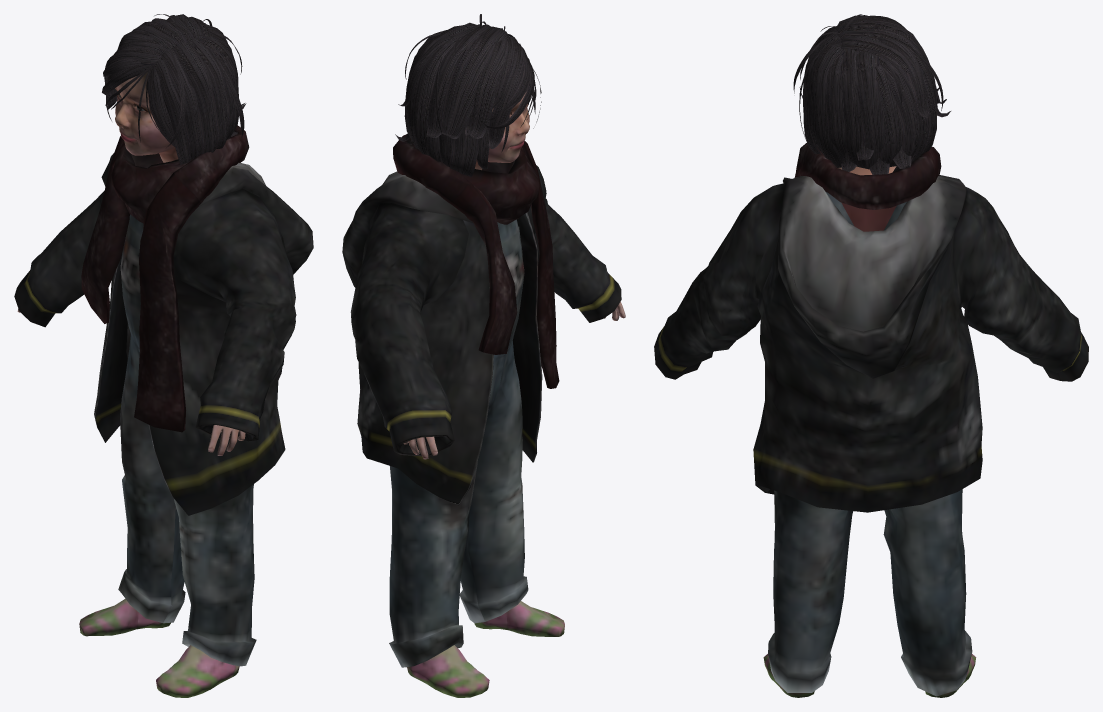
Rendered from kid.glb.
The picture shows the model from 3 angles, left to right: view 1: azimuth 30°, elevation 25°; view 2: azimuth 150°, elevation 25°; view 3: azimuth 270°, elevation 25°; orthographic projection. The views are drawn at different scales.
Visible parts, largest first — view 1: Mesh_1.001, Mesh_6.001, Mesh_2.001, Mesh_3.001, Mesh_0.001, Mesh_5.001; view 2: Mesh_1.001, Mesh_6.001, Mesh_3.001, Mesh_2.001, Mesh_0.001, Mesh_5.001; view 3: Mesh_1.001, Mesh_6.001, Mesh_3.001, Mesh_2.001.
Part boxes in pixels (x1=…): Mesh_1.001: x1=14, y1=153, x2=313, y2=515; Mesh_6.001: x1=79, y1=214, x2=256, y2=697; Mesh_2.001: x1=81, y1=125, x2=249, y2=432; Mesh_3.001: x1=102, y1=14, x2=246, y2=164; Mesh_0.001: x1=115, y1=72, x2=178, y2=162; Mesh_5.001: x1=17, y1=308, x2=245, y2=455; Mesh_1.001: x1=342, y1=165, x2=621, y2=505; Mesh_6.001: x1=389, y1=219, x2=564, y2=697; Mesh_3.001: x1=395, y1=14, x2=541, y2=176; Mesh_2.001: x1=393, y1=134, x2=559, y2=388; Mesh_0.001: x1=475, y1=92, x2=529, y2=170; Mesh_5.001: x1=403, y1=301, x2=625, y2=459; Mesh_1.001: x1=654, y1=175, x2=1088, y2=512; Mesh_6.001: x1=763, y1=192, x2=976, y2=697; Mesh_3.001: x1=793, y1=14, x2=950, y2=174; Mesh_2.001: x1=794, y1=143, x2=941, y2=209.
Bounding box in the file's own units: 0.7976 × 2.5 × 1.48.
7 materials, 7 textured.
